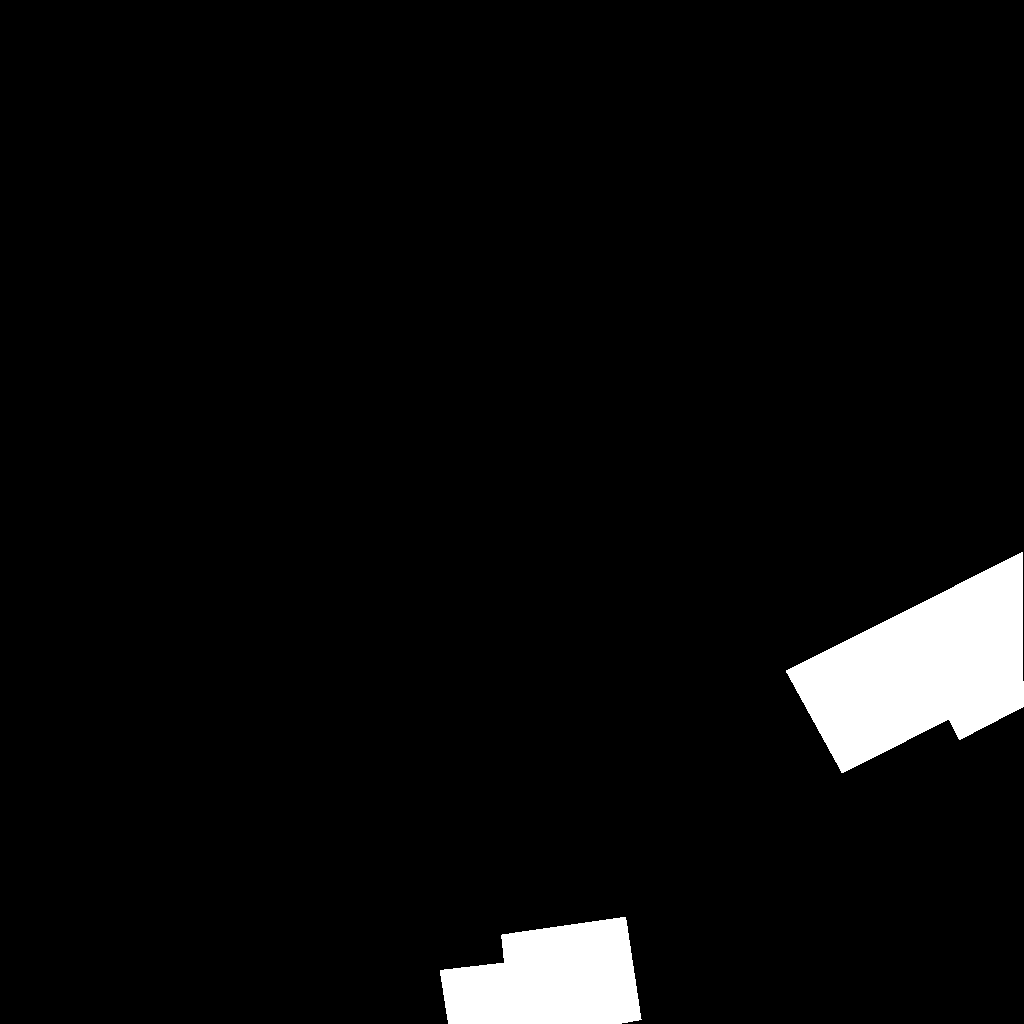building: (786, 552, 1024, 774), (440, 917, 642, 1024)
